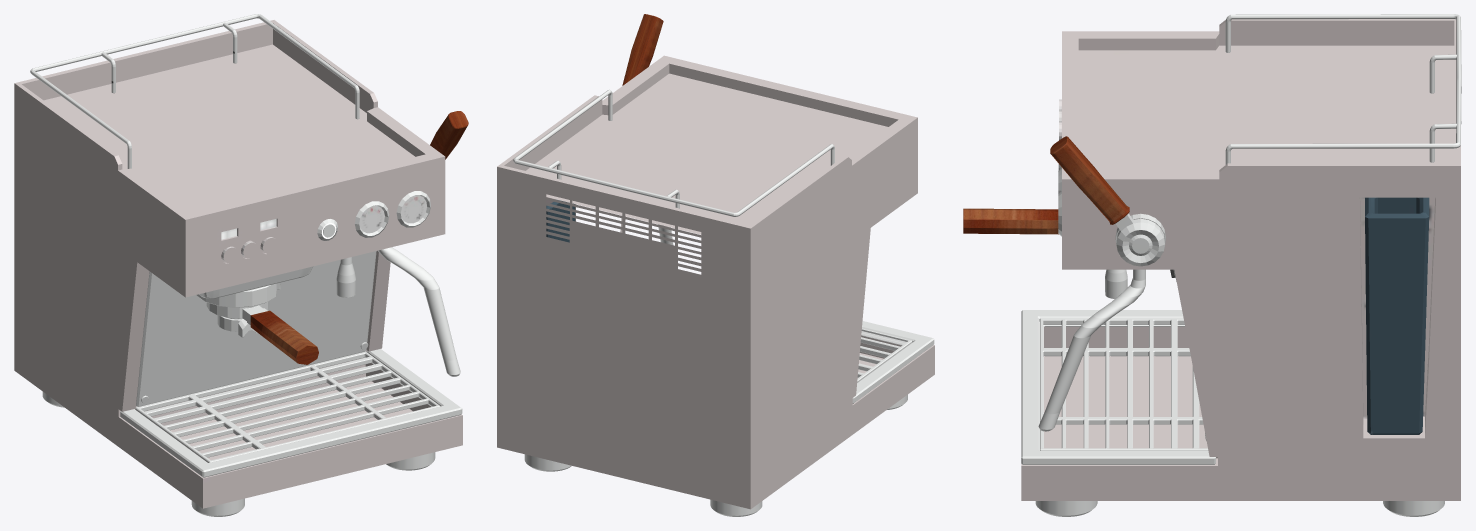
The model's file is COFFEEGLTF.glb.
3 renders of one model, left to right at view 1: azimuth 30°, elevation 25°; view 2: azimuth 150°, elevation 25°; view 3: azimuth 270°, elevation 25°, orthographic. The views are drawn at different scales.
Parts seen in each view (by area): view 1: polySurface10, metal_plate, metal_grill, metal_holder, metal_longpipe, metal_hander, wood_refill, metal_refill_bottom, wood_lever, metal_refill_middle, polySurface7, polySurface11 (+4 smaller); view 2: polySurface10, metal_longpipe, metal_holder, wood_lever, metal_grill, plastic_cup, metal_leg4; view 3: polySurface10, plastic_cup, metal_grill, metal_holder, metal_longpipe, metal_hander, wood_lever, wood_refill, metal_lever, metal_leg1, metal_leg2, metal_pour.
Boxes of the visible parts, box(x1,y1,x2,y2) form: polySurface10: box(14, 20, 462, 508); metal_plate: box(136, 251, 376, 406); metal_grill: box(135, 351, 440, 462); metal_holder: box(120, 349, 462, 477); metal_longpipe: box(30, 14, 359, 168); metal_hander: box(378, 247, 460, 376); wood_refill: box(250, 310, 318, 364); metal_refill_bottom: box(206, 301, 269, 337); wood_lever: box(430, 111, 468, 159); metal_refill_middle: box(196, 283, 280, 307); polySurface7: box(396, 191, 430, 227); polySurface11: box(355, 201, 389, 237); polySurface10: box(497, 55, 934, 509); metal_longpipe: box(513, 89, 834, 216); metal_holder: box(852, 321, 934, 403); wood_lever: box(622, 14, 663, 85); metal_grill: box(857, 328, 912, 382); plastic_cup: box(546, 197, 575, 242); metal_leg4: box(710, 499, 762, 516); polySurface10: box(1021, 19, 1460, 500); plastic_cup: box(1365, 197, 1429, 434); metal_grill: box(1040, 318, 1208, 450); metal_holder: box(1021, 310, 1215, 464); metal_longpipe: box(1225, 14, 1461, 164); metal_hander: box(1038, 269, 1145, 431); wood_lever: box(1050, 136, 1129, 224); wood_refill: box(963, 208, 1058, 234); metal_lever: box(1115, 213, 1165, 266); metal_leg1: box(1035, 501, 1097, 516); metal_leg2: box(1383, 501, 1444, 516); metal_pour: box(1105, 269, 1127, 298).
Size of the model in its own units: 78.99 by 90.88 by 105.
Materials: 3 (3 with a texture image).
